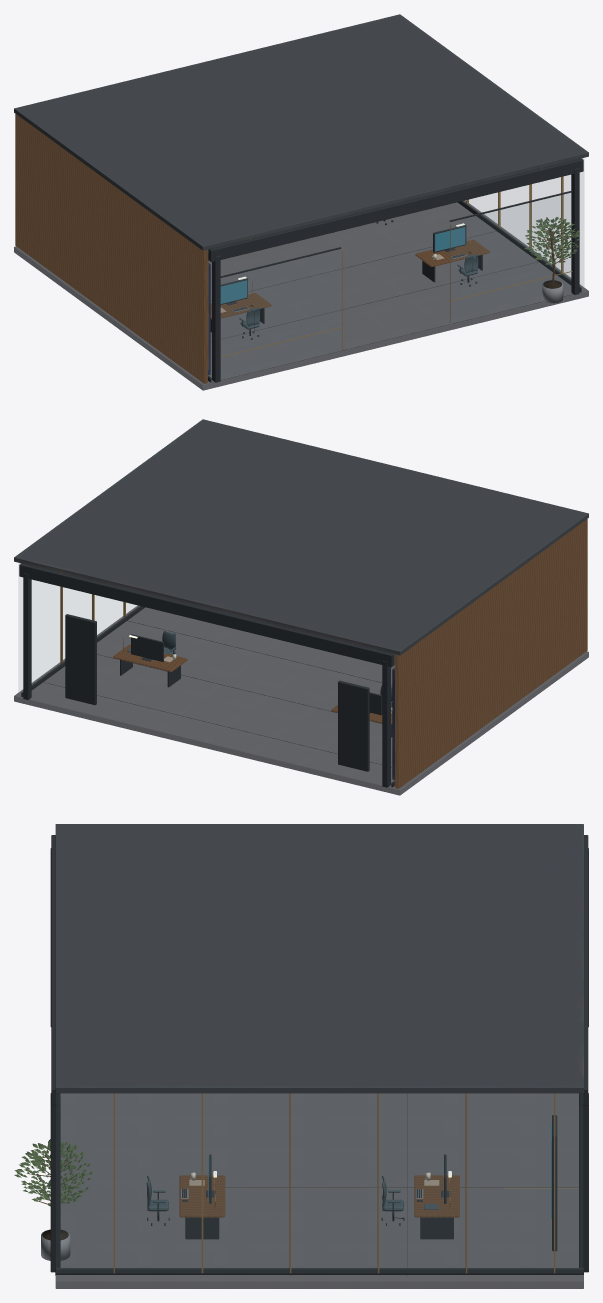
File: environment-4.glb
3 renders of one model, top to bottom at view 1: azimuth 30°, elevation 25°; view 2: azimuth 150°, elevation 25°; view 3: azimuth 270°, elevation 25°, orthographic. The views are drawn at different scales.
Visible parts, largest first — view 1: Continuous floor slab; view 2: Continuous floor slab; view 3: Continuous floor slab.
Boxes of the visible parts, x1,y1,x2,y2 form: Continuous floor slab: (14, 14, 588, 390); Continuous floor slab: (14, 419, 588, 795); Continuous floor slab: (14, 824, 588, 1288).
Size of the model in its own units: 17 by 6.06 by 15.67.
Materials: 19 (6 with a texture image).
